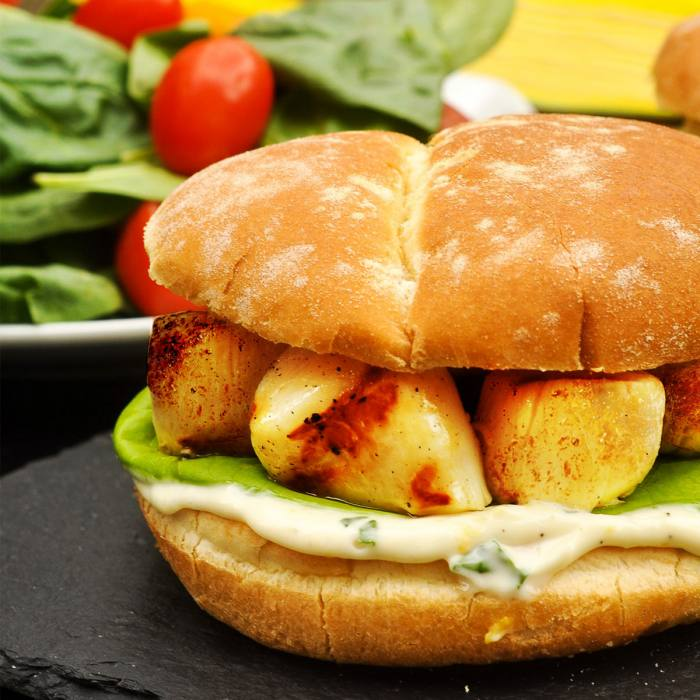hamburger_buns: (138, 104, 700, 377)
